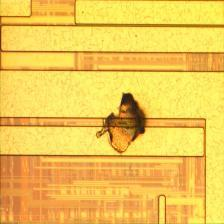PARTICLE: (95, 90, 152, 156)
